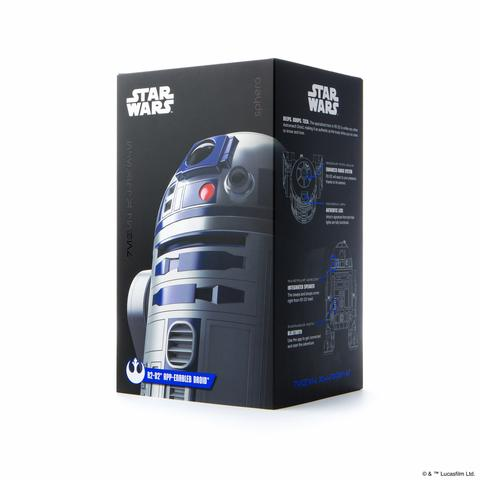r2d2: (129, 132, 276, 357)
